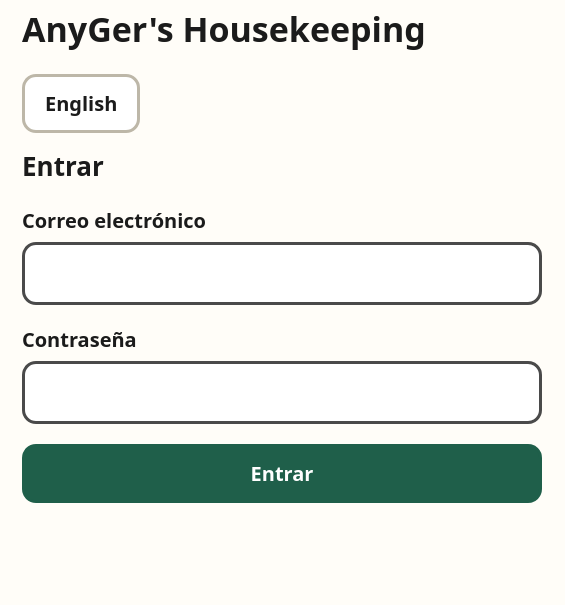
Test: Login › shows a plain Spanish message for wrong credentials
Type "a@b.co" into the field labelled "Correo electrónico". click: (282, 274)
box: [22,242,542,305]
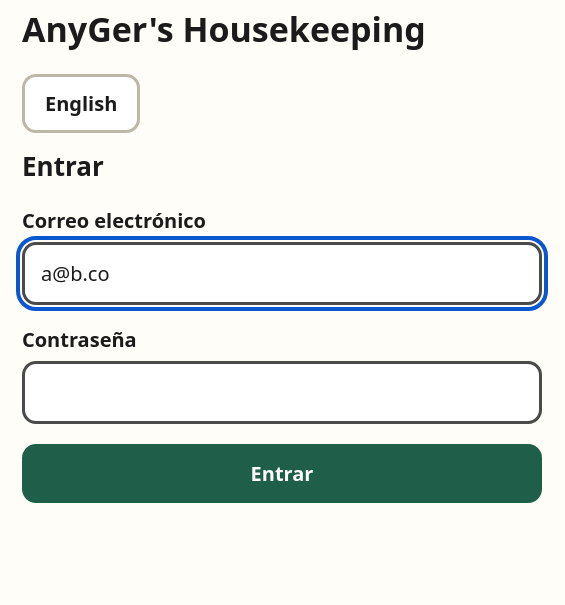
Type "wrong" into the password field labelled "Contraseña". click: (282, 392)
box: [22,361,542,424]
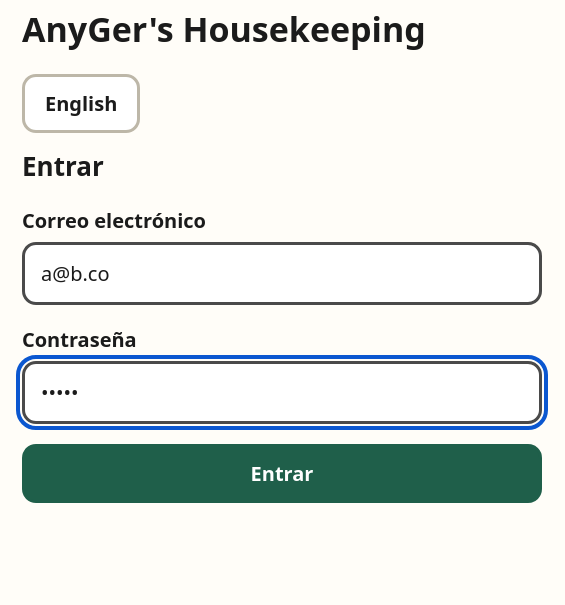
Click the button "Entrar". click: (282, 474)
box: [22,444,542,503]
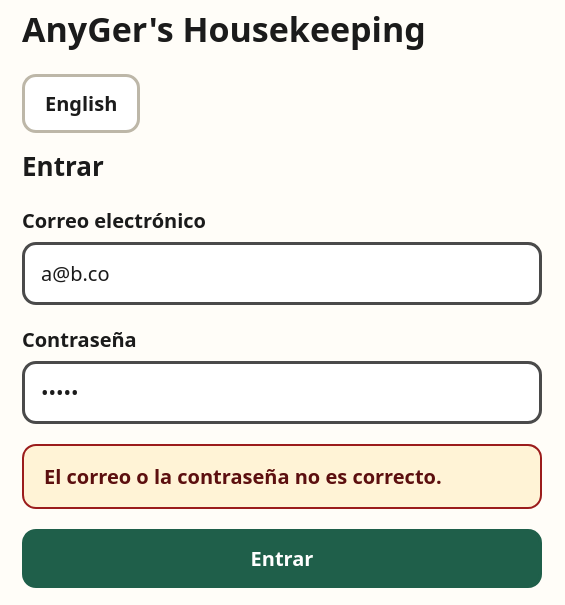
expect the message reads "El correo o la contraseña no es correcto.": met, box [44,463,442,490]
